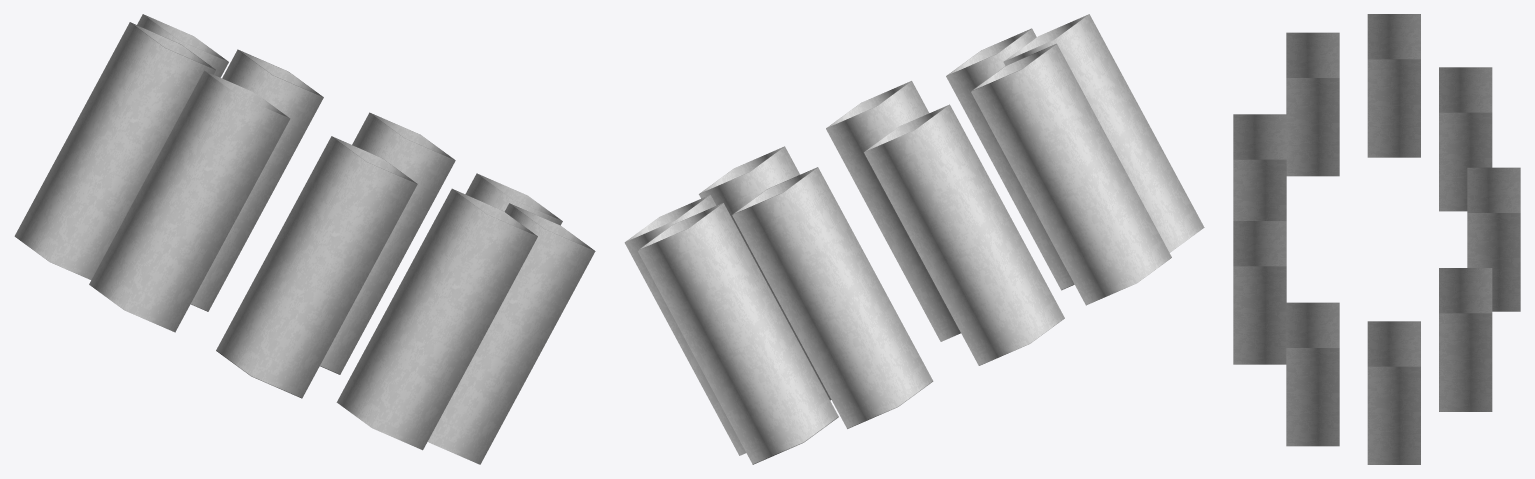
The model's file is mdl_smgAmmoItem_plastic.fbx.
3 renders of one model, left to right at view 1: azimuth 30°, elevation 25°; view 2: azimuth 150°, elevation 25°; view 3: azimuth 270°, elevation 25°, orthographic. The views are drawn at different scales.
Visible parts, largest first — view 1: smg_AmmoItemPlastic; view 2: smg_AmmoItemPlastic; view 3: smg_AmmoItemPlastic.
Boxes of the visible parts, x1,y1,x2,y2 form: smg_AmmoItemPlastic: [14, 14, 595, 464]; smg_AmmoItemPlastic: [624, 14, 1204, 464]; smg_AmmoItemPlastic: [1233, 14, 1520, 464].
Size of the model in its own units: 0.0918 by 0.078 by 0.0586.
